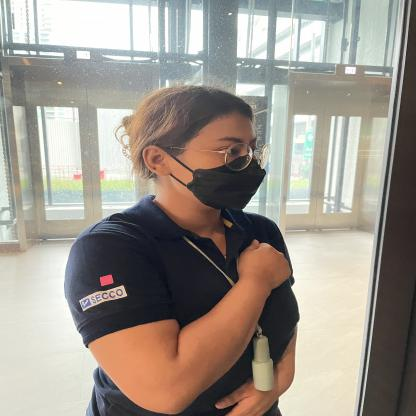Sadness: (193, 223, 309, 318)
